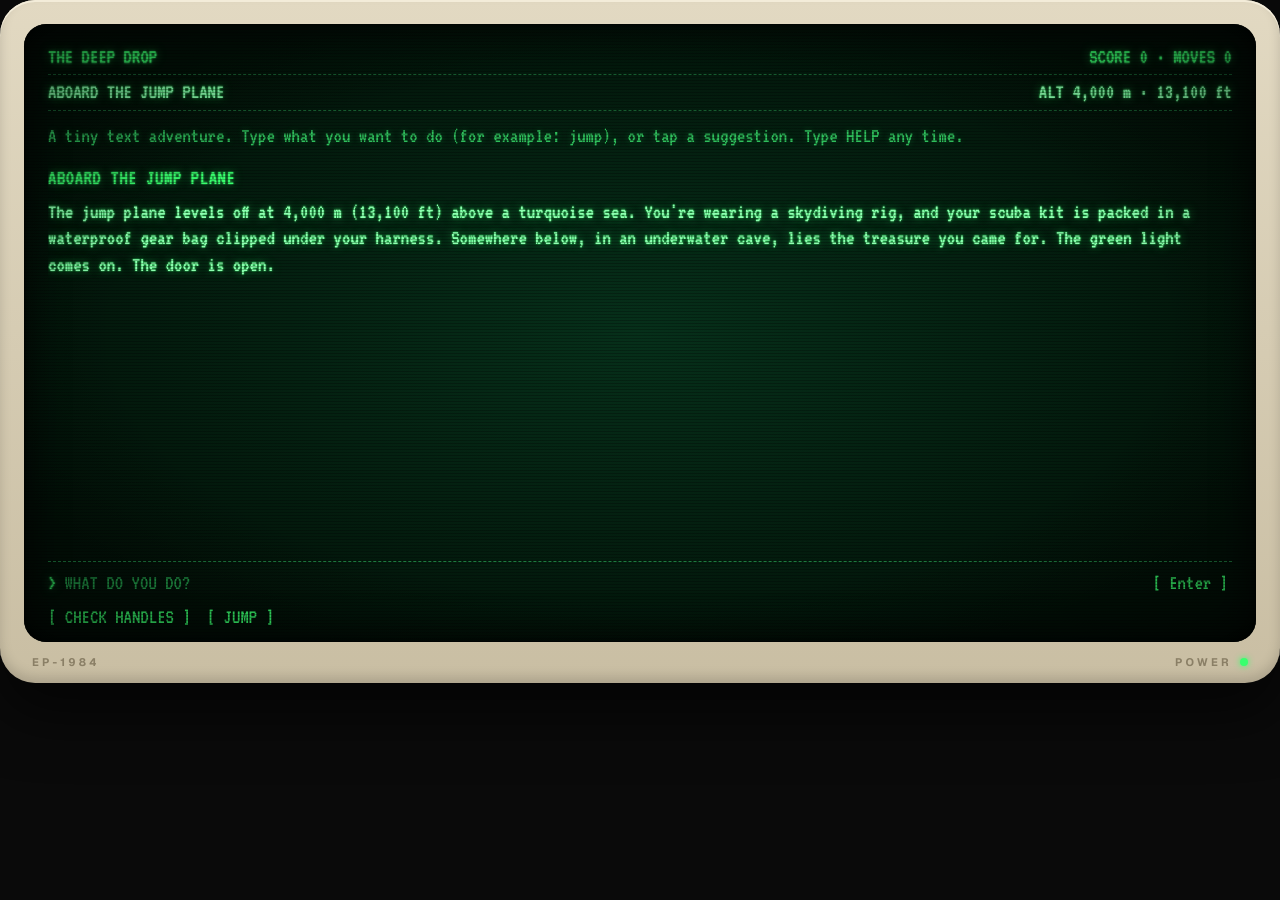
Scenario: Game screen › runs typed commands and suggestion chips
Type "help" into the field named "Your command" at (602, 583), box [64,570,1140,596]
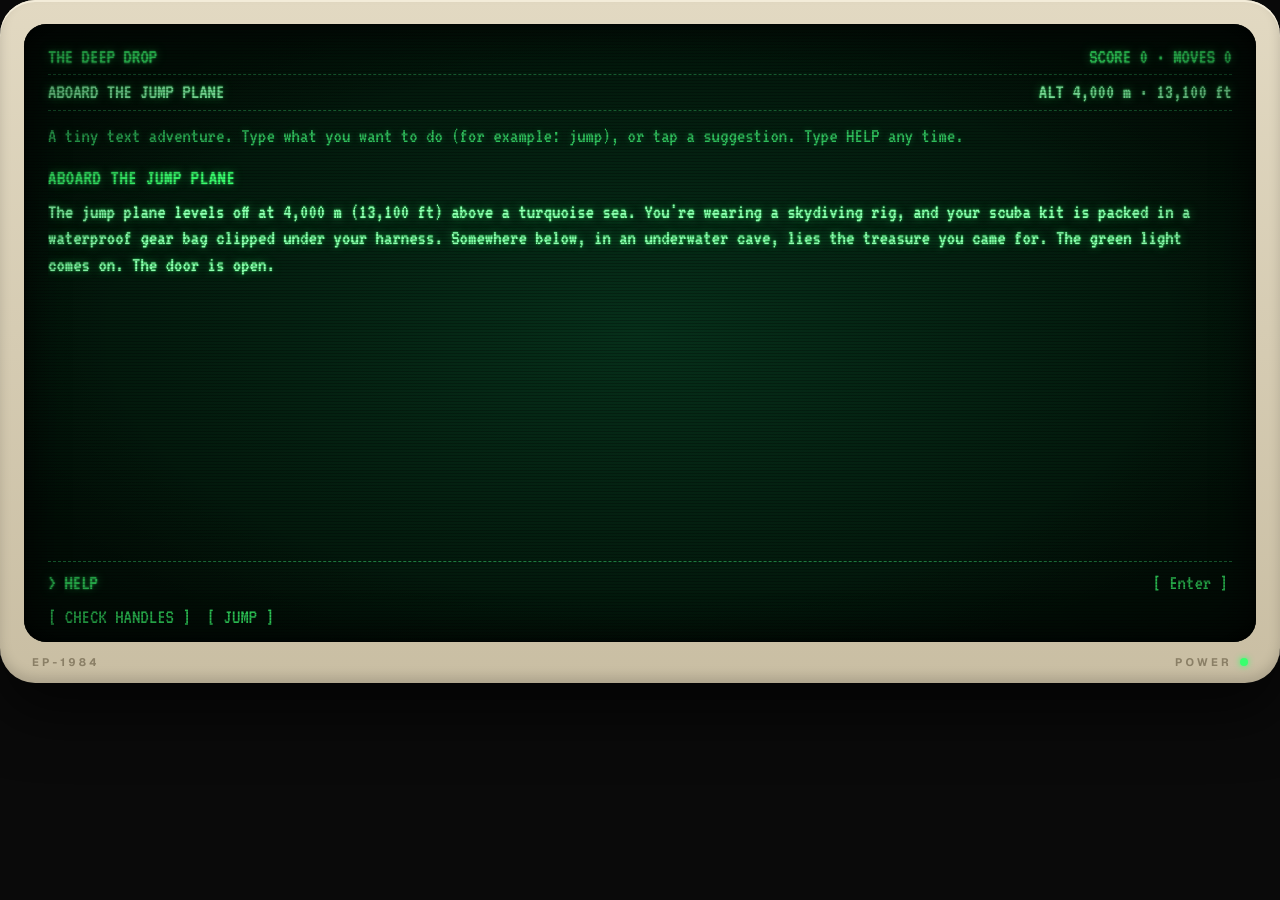
Submit the form named "Your command", box [48,560,1232,596]
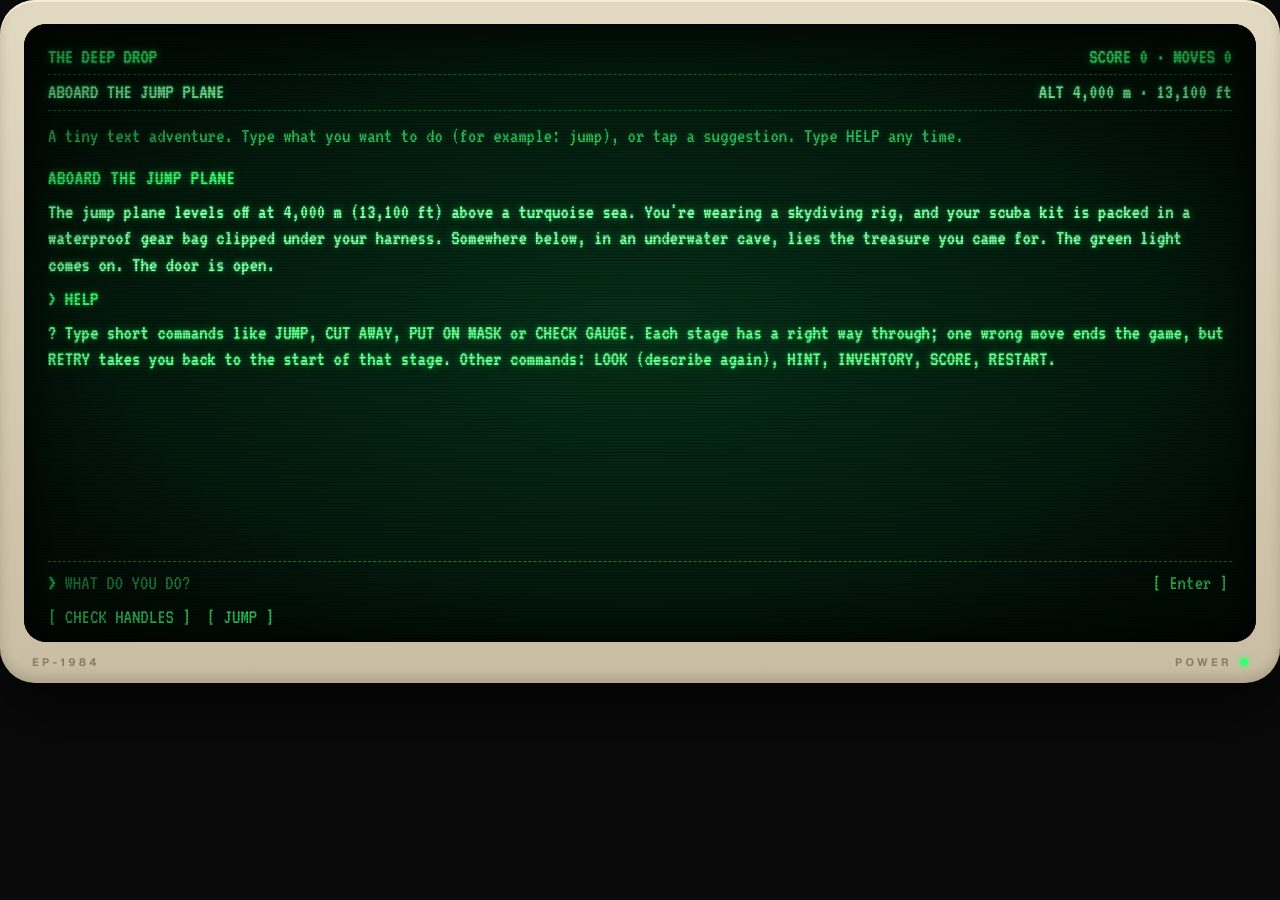
Now the text "Type short commands like JUMP" is shown, box [48,322,1224,369]
Click the button "[ jump ]" at (240, 617), box [207,604,274,630]
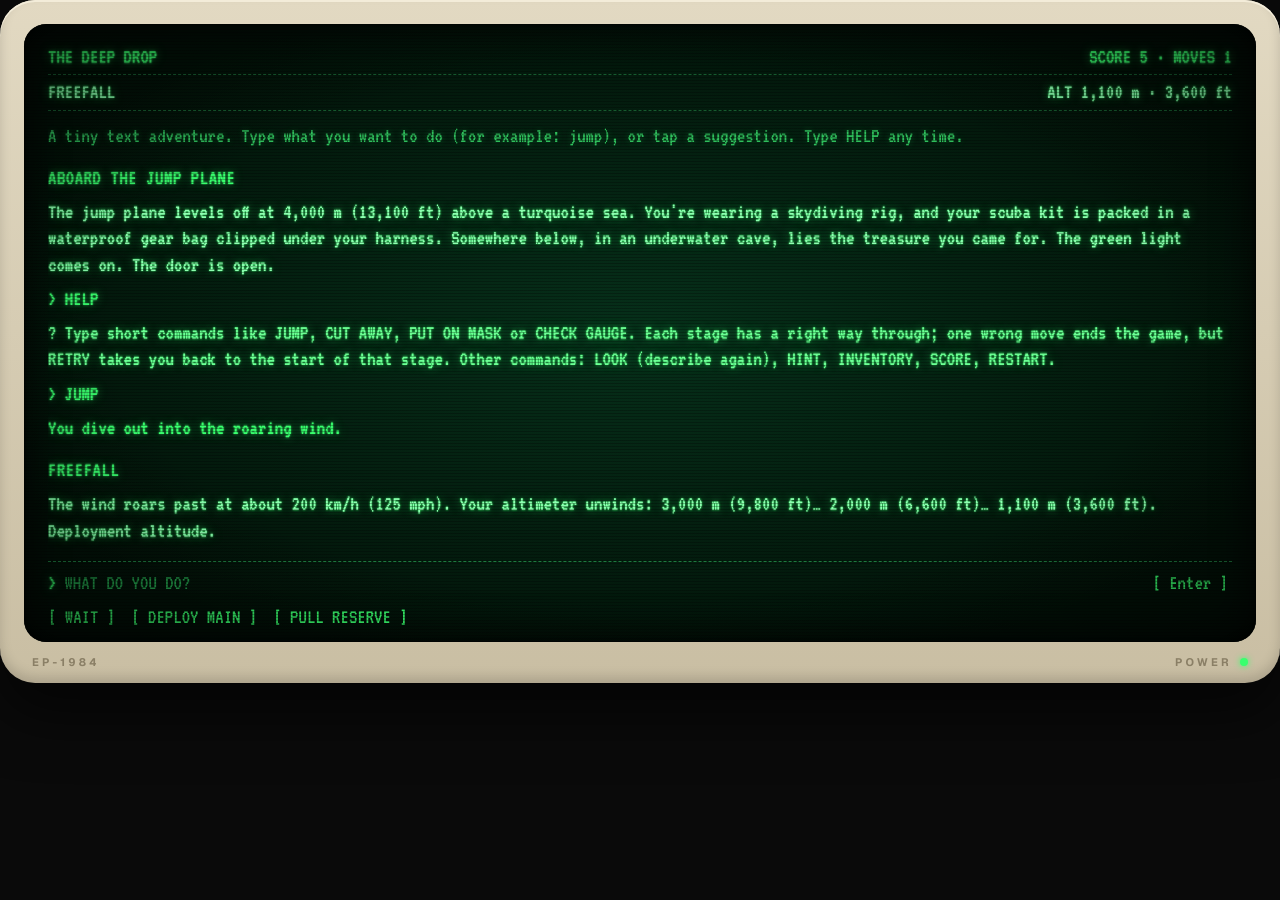
Now the text "Freefall" in the row of "ALT 1,100 m · 3,600 ft" is shown, box [48,81,115,102]
Now the text "SCORE 5 · MOVES 1" is shown, box [1089,44,1232,70]
